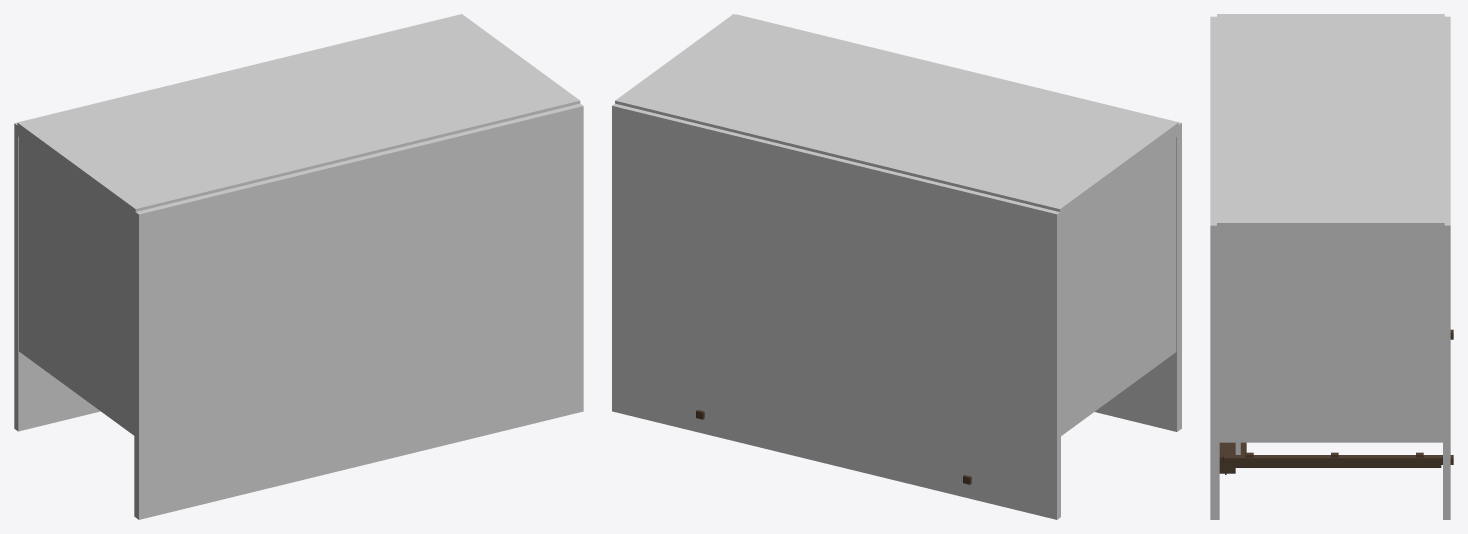
Rendered from shade_hero.glb.
3 renders of one model, left to right at view 1: azimuth 30°, elevation 25°; view 2: azimuth 150°, elevation 25°; view 3: azimuth 270°, elevation 25°, orthographic. The views are drawn at different scales.
Parts seen in each view (by area): view 1: Patio_Backdrop; view 2: Patio_Backdrop; view 3: Patio_Backdrop, Frame, Side_Track_Right, Cassette.
Part boxes in pixels (box(x1,y1,x2,y2)): Patio_Backdrop: box(14, 14, 583, 519); Patio_Backdrop: box(612, 14, 1181, 519); Patio_Backdrop: box(1210, 14, 1450, 519); Frame: box(1223, 329, 1453, 464); Side_Track_Right: box(1235, 465, 1441, 467); Cassette: box(1219, 442, 1235, 474).
Size of the model in its own units: 6.4 by 4.24 by 3.15.
